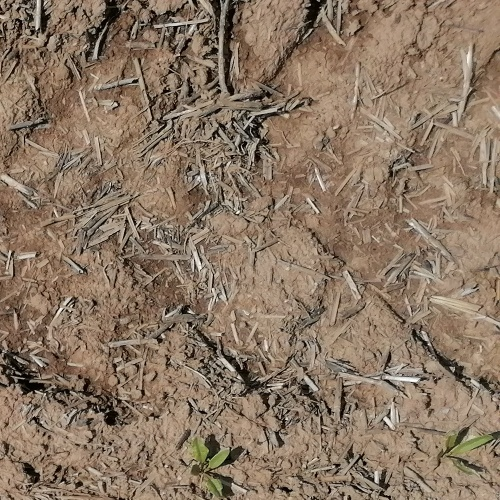beet: (189, 438, 230, 500), (433, 433, 497, 470)
